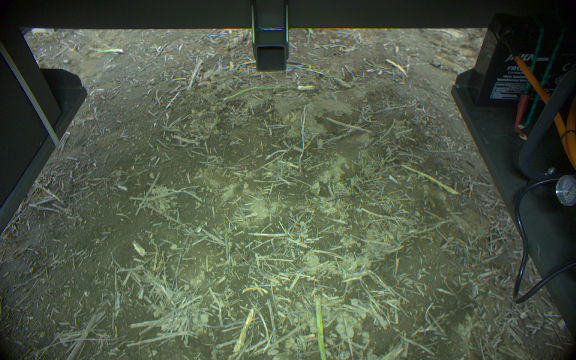aspa: (222, 84, 299, 101), (314, 290, 329, 360)
